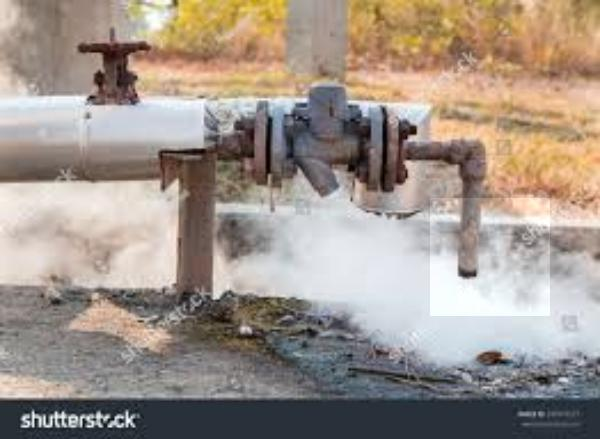gas: (430, 198, 550, 316)
